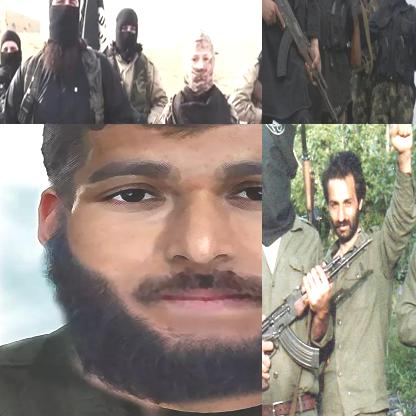rifle: (262, 232, 378, 415), (262, 0, 342, 123), (293, 124, 322, 226), (348, 0, 382, 68)
